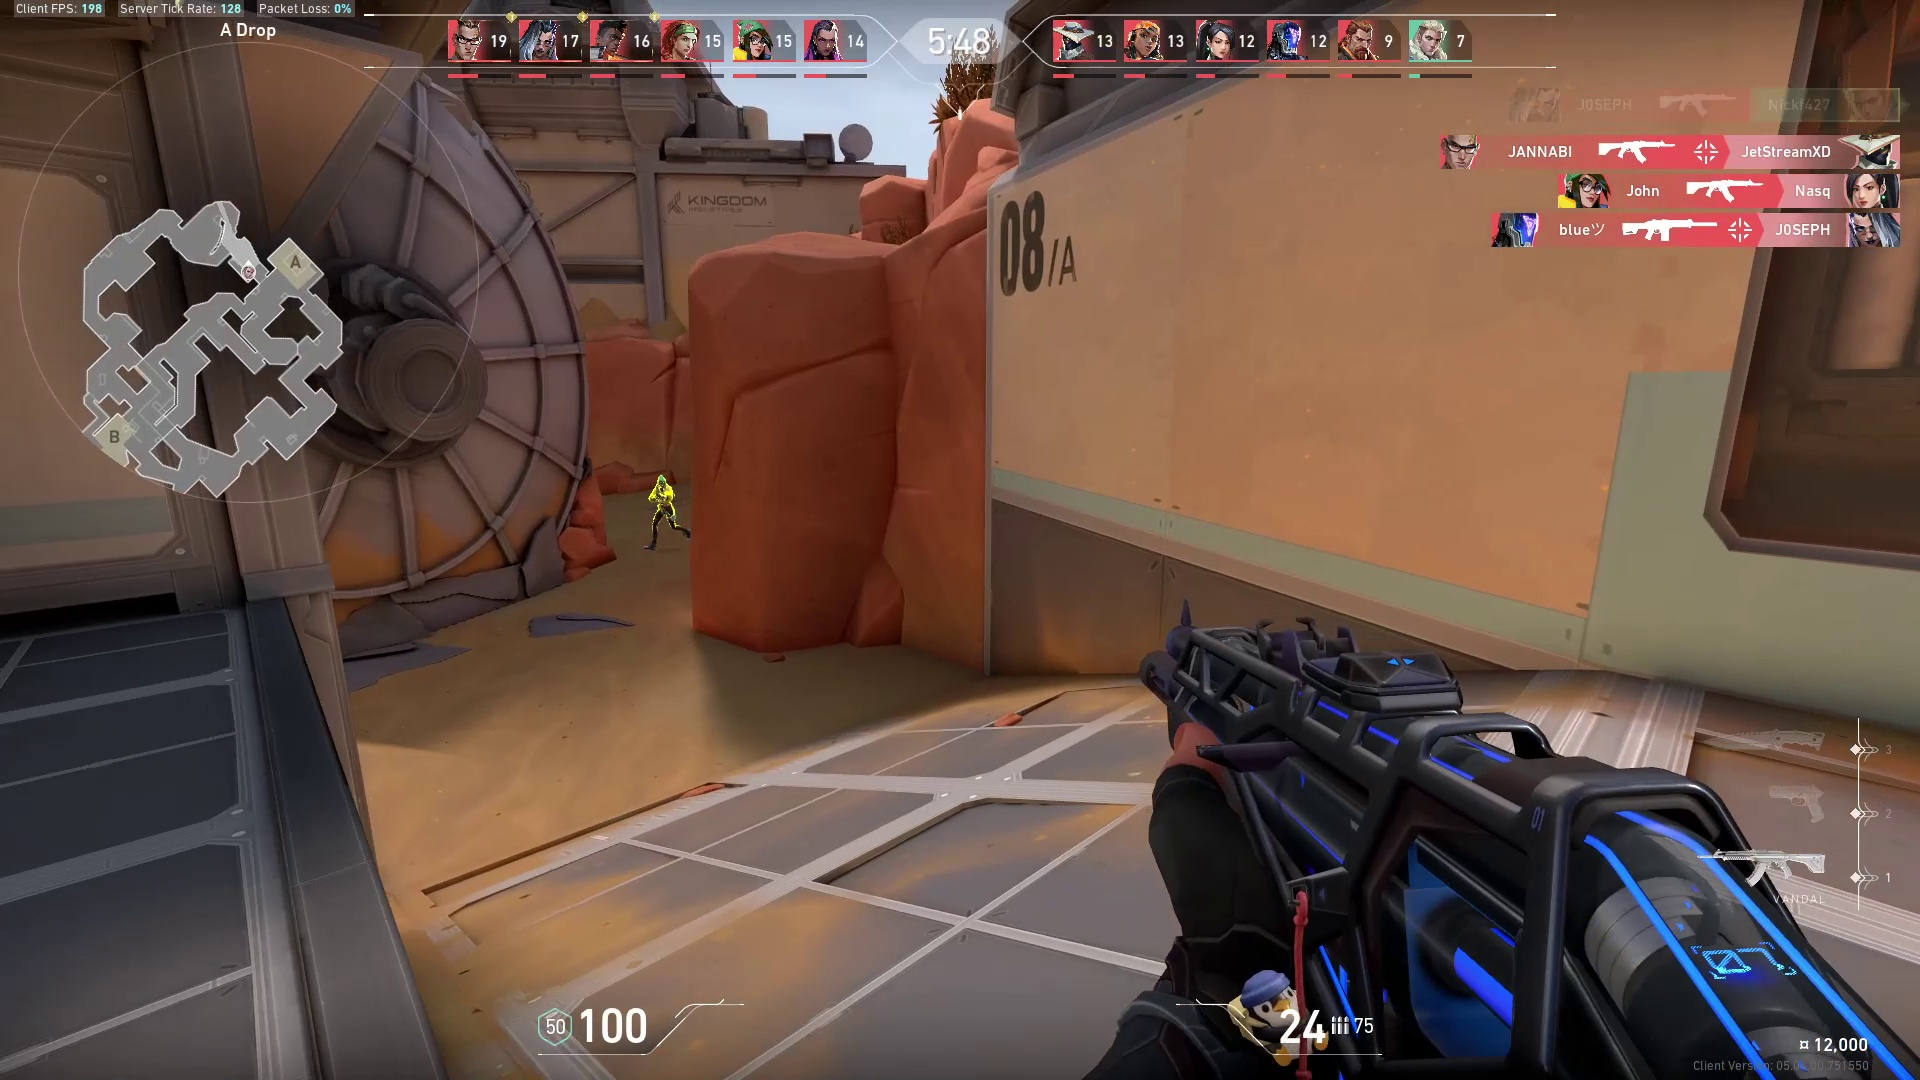enemy_body: (646, 483, 690, 553)
enemy_head: (654, 473, 667, 488)
